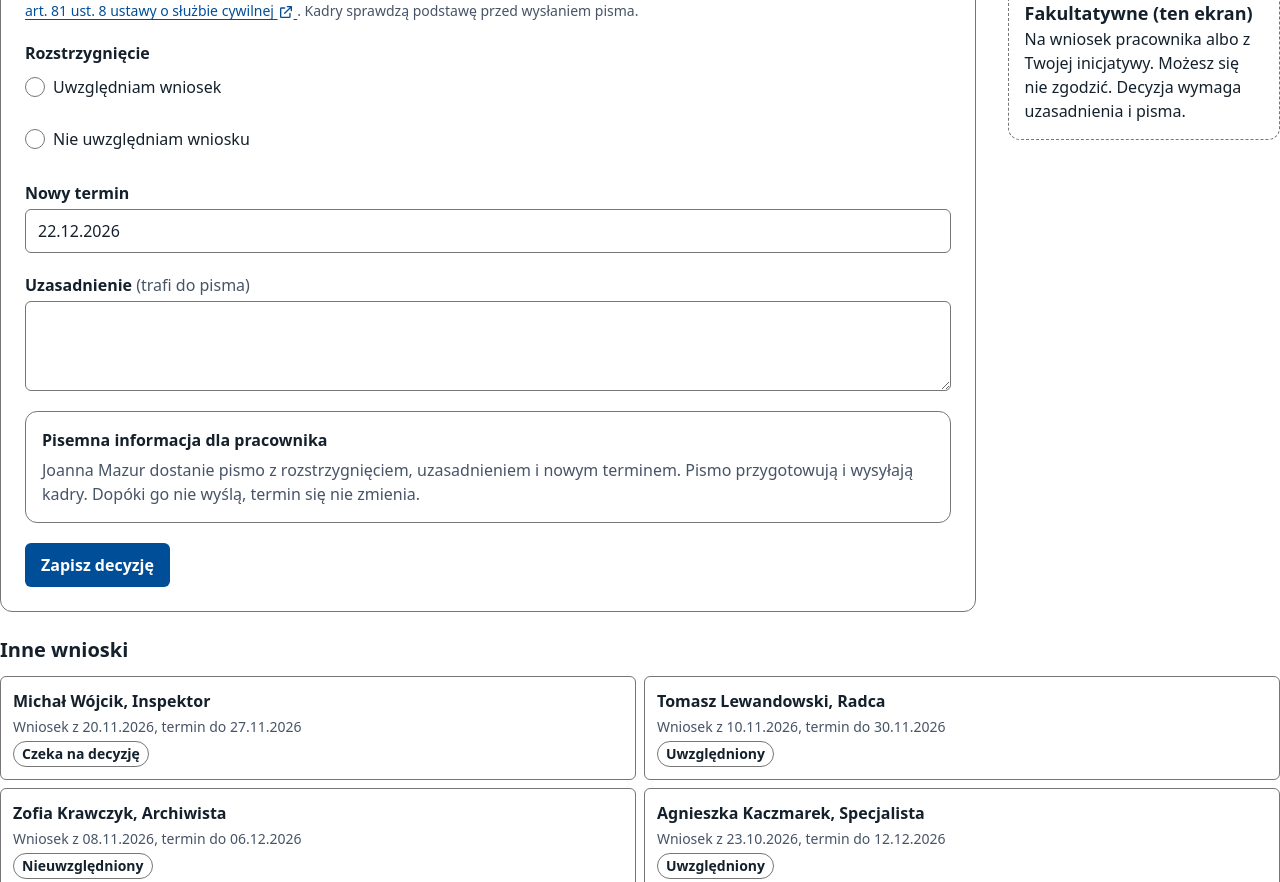
Test: DeadlineShiftPage › shows field errors and does not save an empty decision
(page scrolled)
What coordinates should you click on to do the following:
click the button named "Zapisz decyzję i przekaż do kadr"
I would click on:
 (97, 565)
Its box is [25, 543, 170, 587].
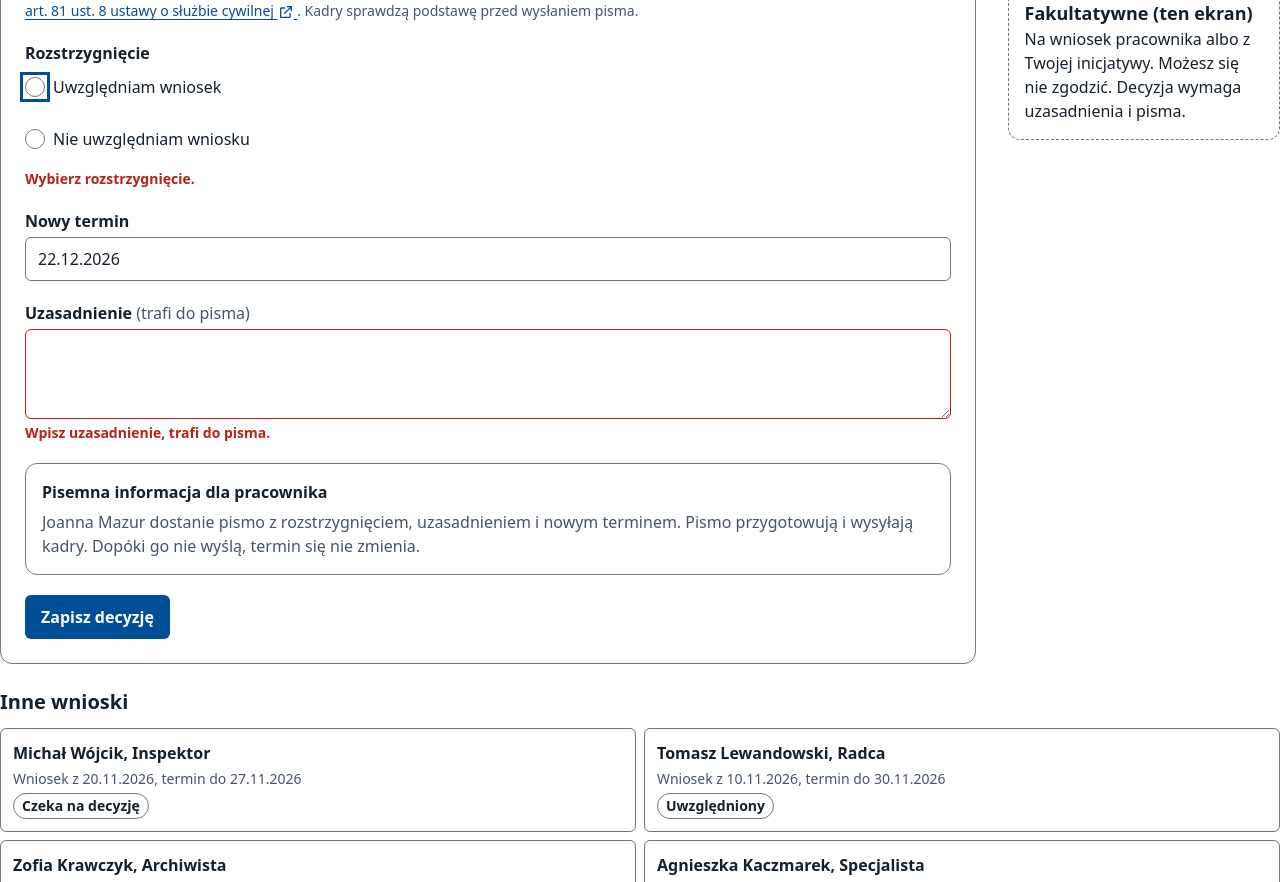
Check: the text "Wybierz rozstrzygnięcie." is shown, box [25, 169, 195, 188]
Check: the text "Wpisz uzasadnienie, trafi do pisma." is shown, box [25, 423, 270, 442]
